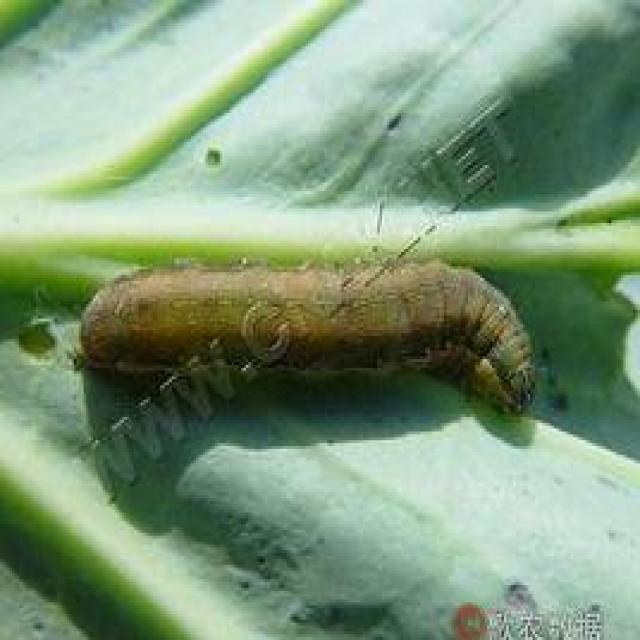BeetArmyWorm-Larva-: (81, 249, 558, 424)
